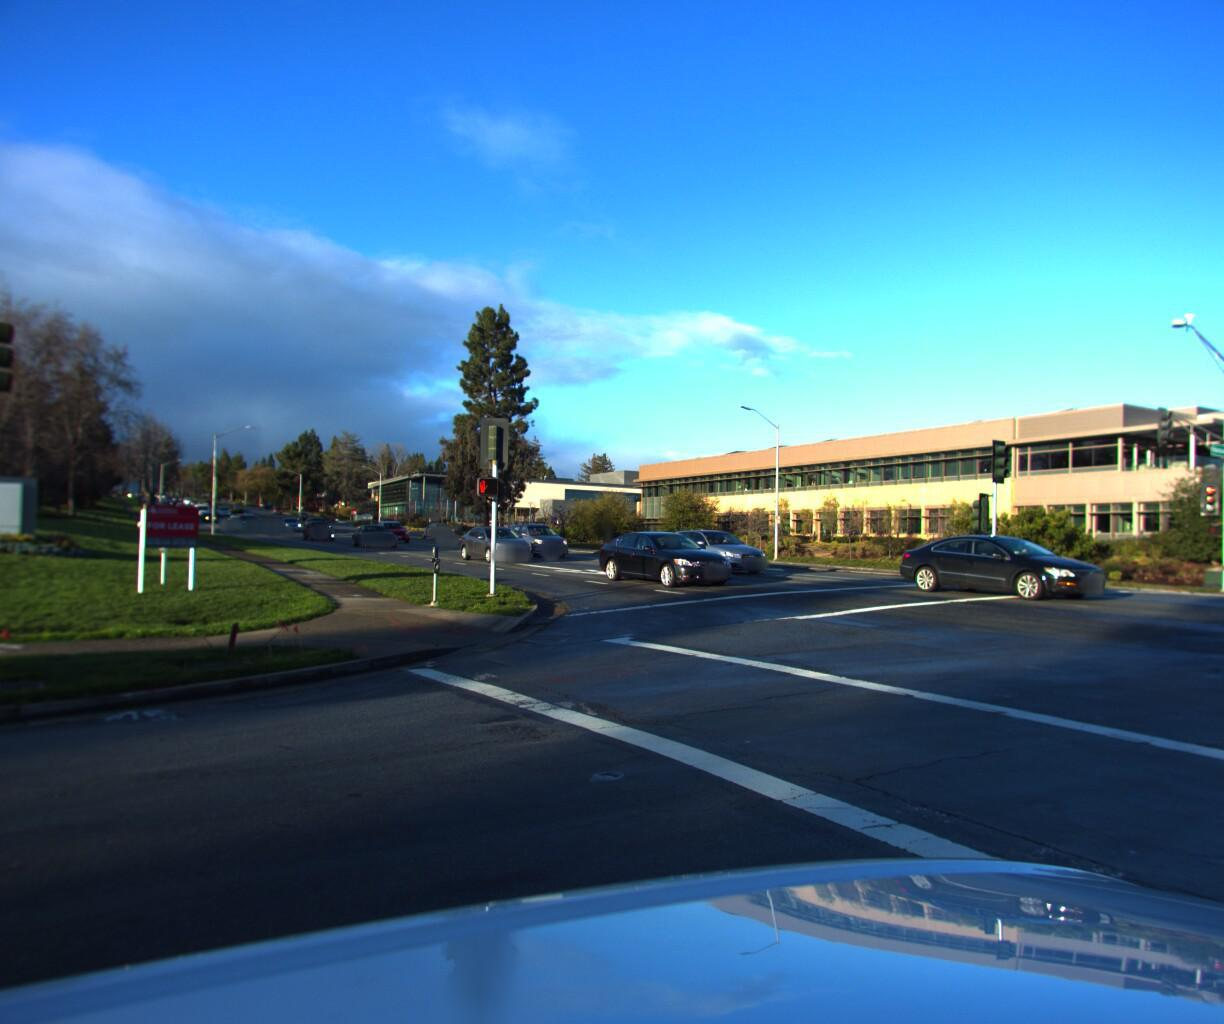car: (890, 529, 1118, 601), (591, 528, 738, 587), (658, 525, 772, 571), (454, 522, 541, 561), (499, 520, 575, 557), (353, 520, 405, 546), (376, 518, 417, 542), (302, 515, 338, 536), (422, 521, 458, 539)
